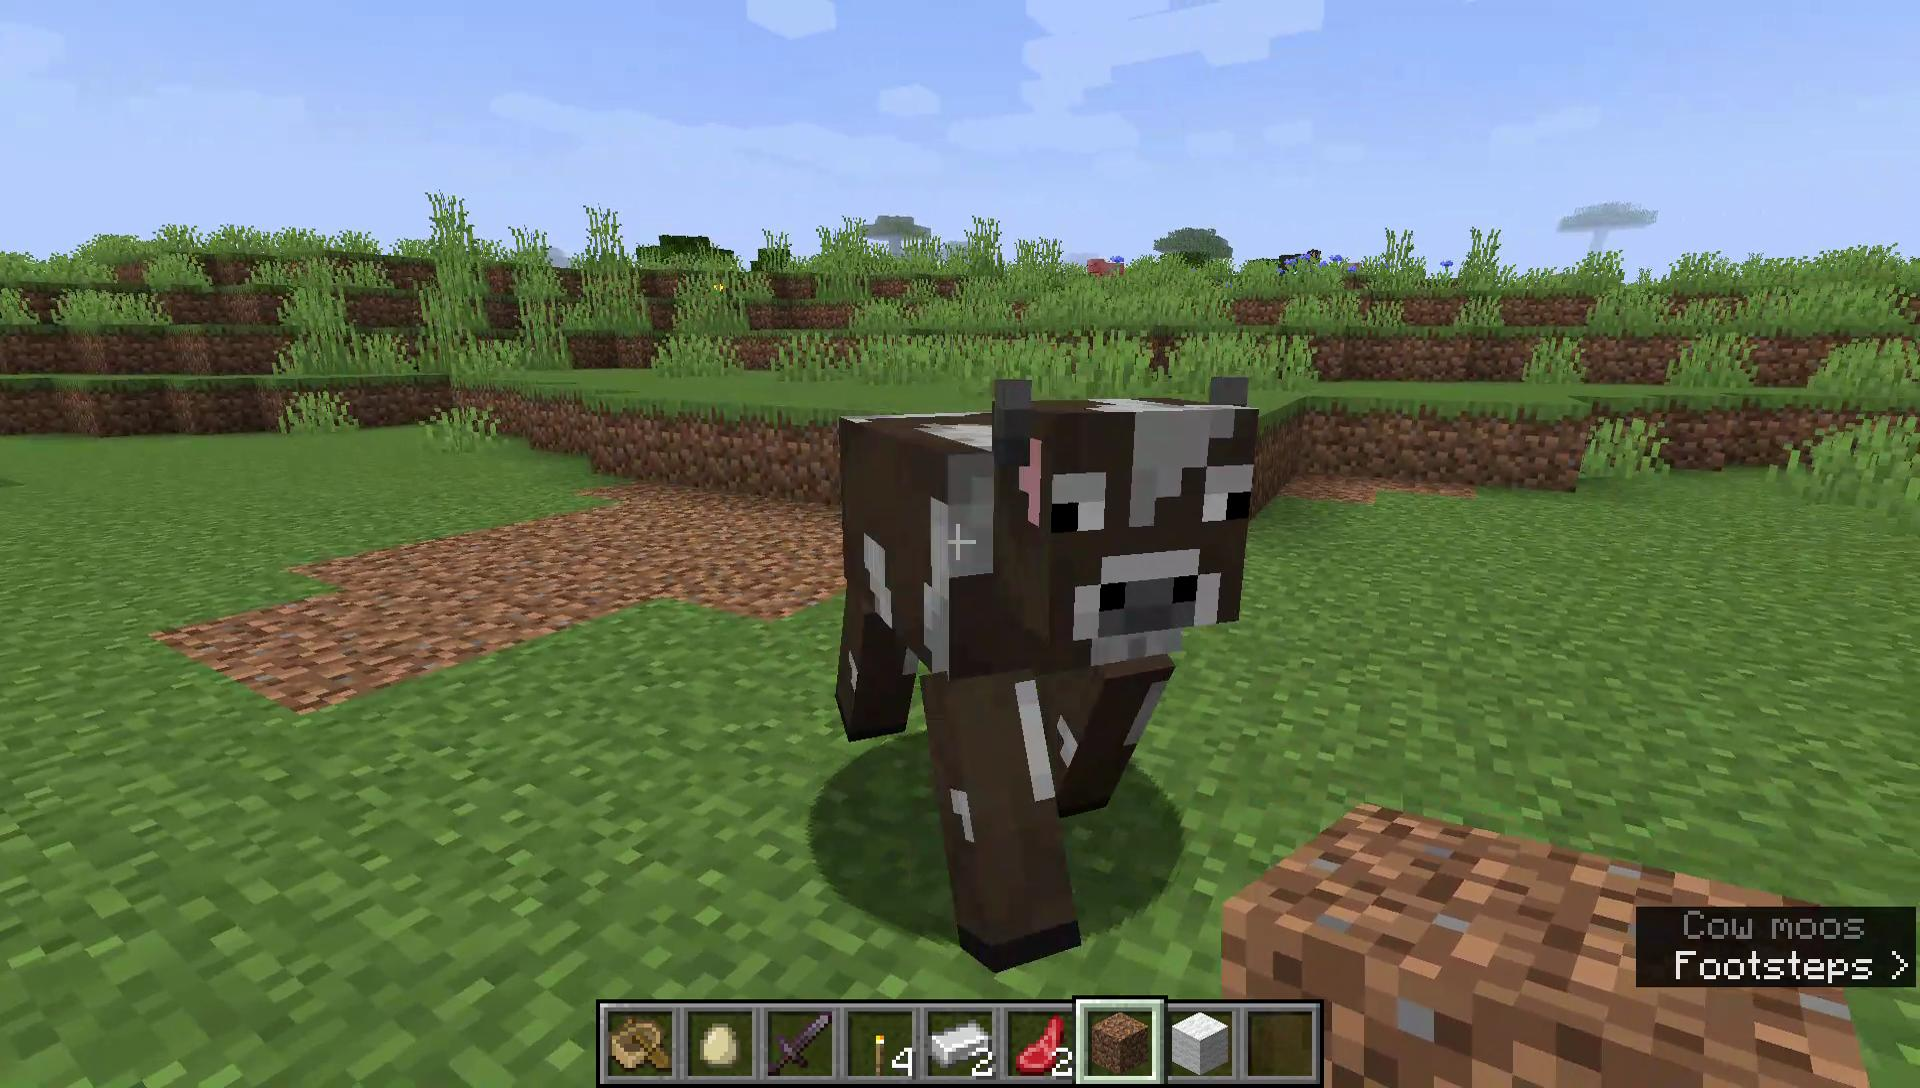cow: (819, 371, 1276, 977), (1279, 248, 1325, 278)
pig: (1085, 256, 1129, 286)
